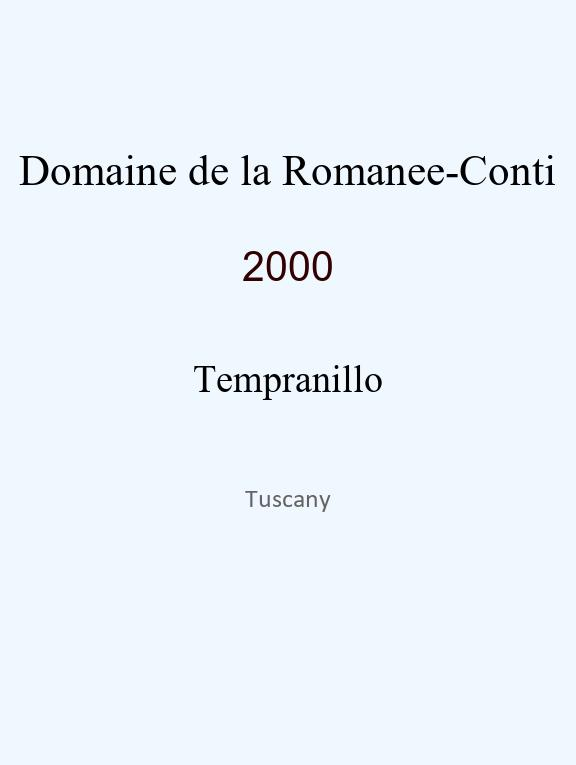brand: (19, 146, 556, 176)
region: (245, 487, 331, 508)
variety: (193, 358, 383, 393)
vintage: (242, 243, 334, 273)
